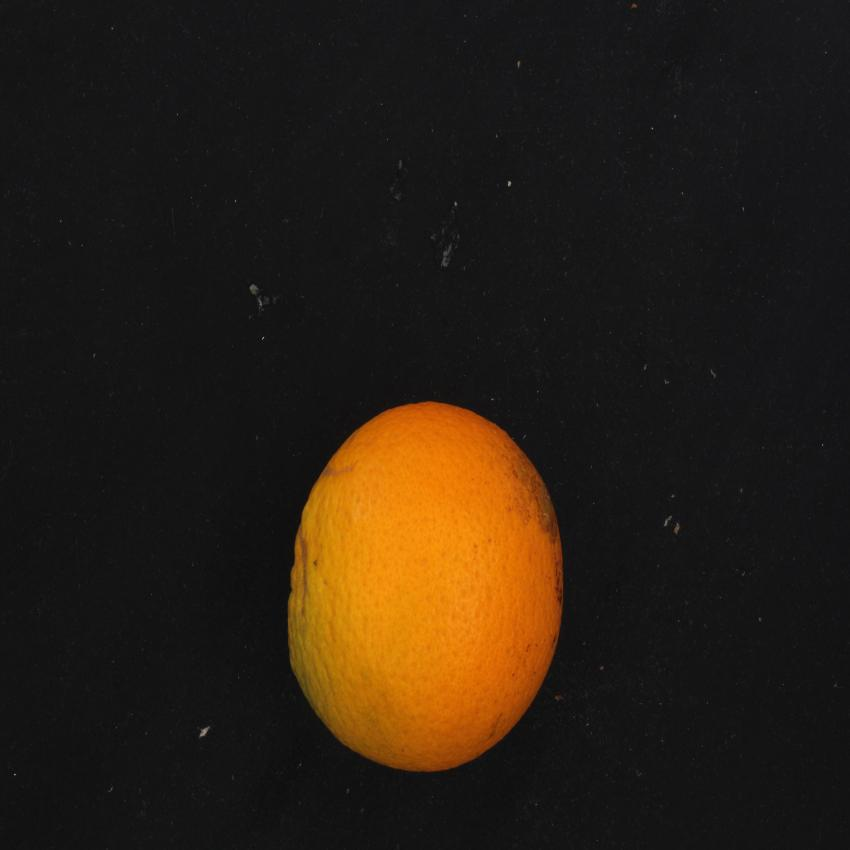Buen estado: (273, 387, 589, 786)
